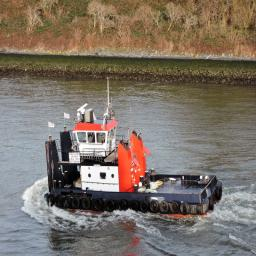tugboat: (44, 103, 225, 225)
